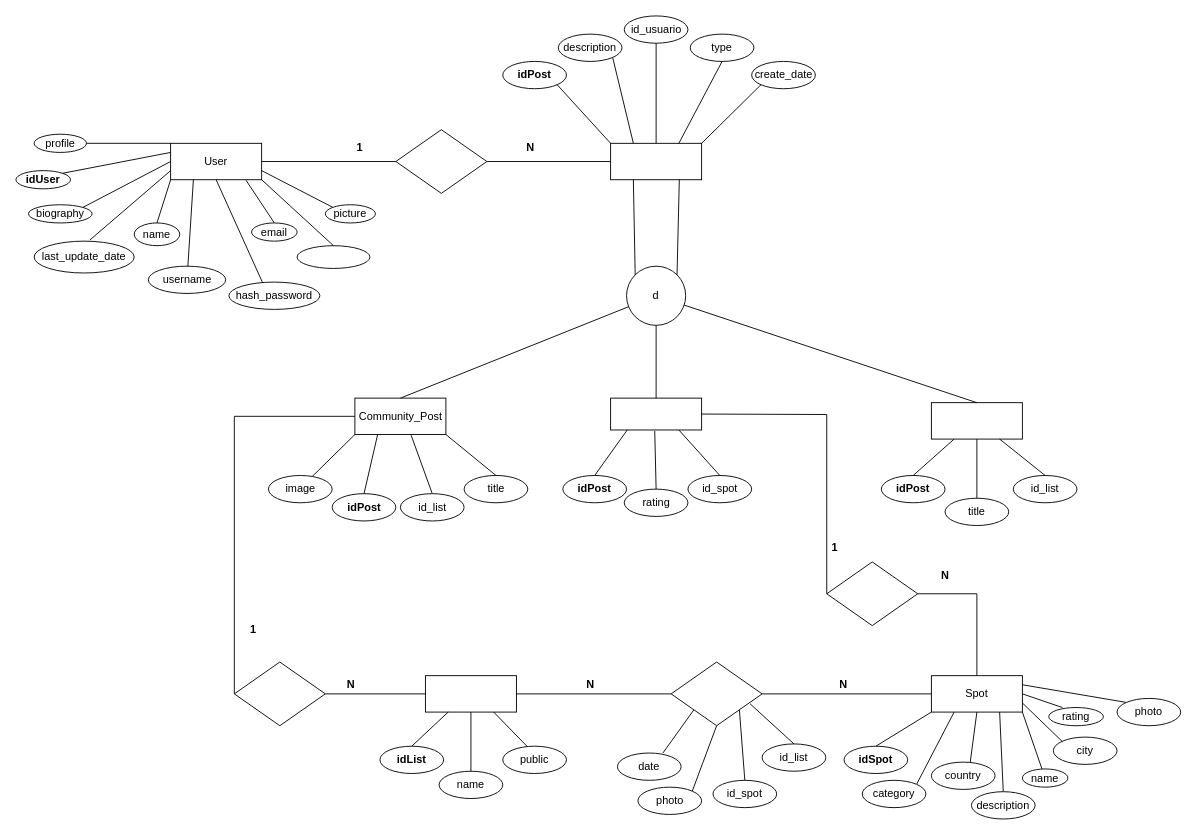
The diagram is 1197 pixels wide and 835 high, and some of its shapes have lost their labels. The box of each missing label's shape, as (x1, y1, x2, y2) in pixels:
belongs to: (233, 661, 325, 726)
creation_date: (296, 245, 370, 268)
List: (425, 675, 516, 712)
List_has_Spot: (670, 661, 762, 726)
List_Post: (930, 402, 1022, 439)
Post: (610, 142, 702, 180)
publishes: (395, 129, 487, 193)
Review_Post: (610, 397, 702, 430)
reviews: (826, 561, 918, 626)
